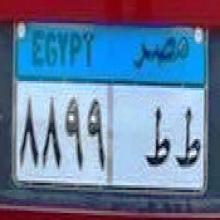8: (17, 95, 39, 175), (41, 98, 63, 175)
9: (86, 95, 107, 178), (64, 88, 84, 174)
Taa: (173, 100, 201, 176), (144, 101, 172, 176)
